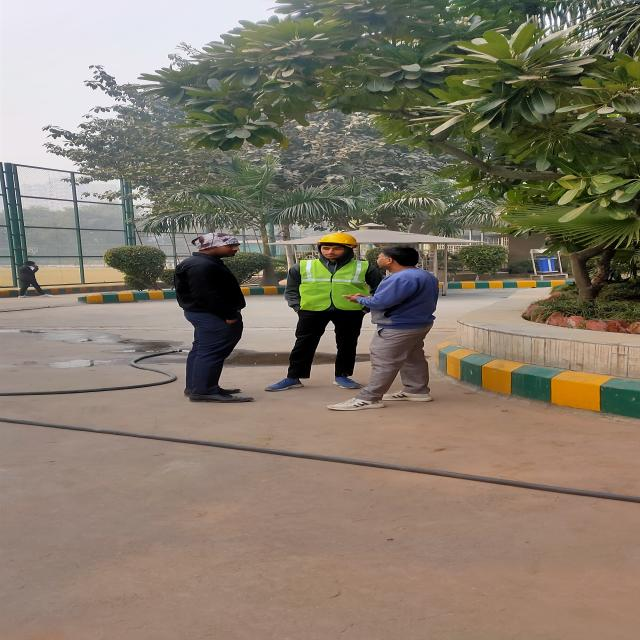safe: (287, 234, 362, 388)
unsafe: (175, 232, 256, 402), (369, 246, 441, 408), (17, 260, 54, 298)
